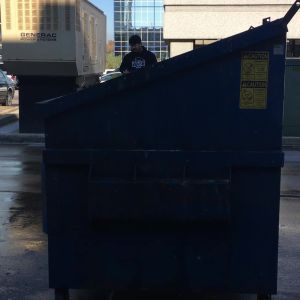Dumpster: (32, 1, 300, 299)
Person: (115, 29, 161, 84)
